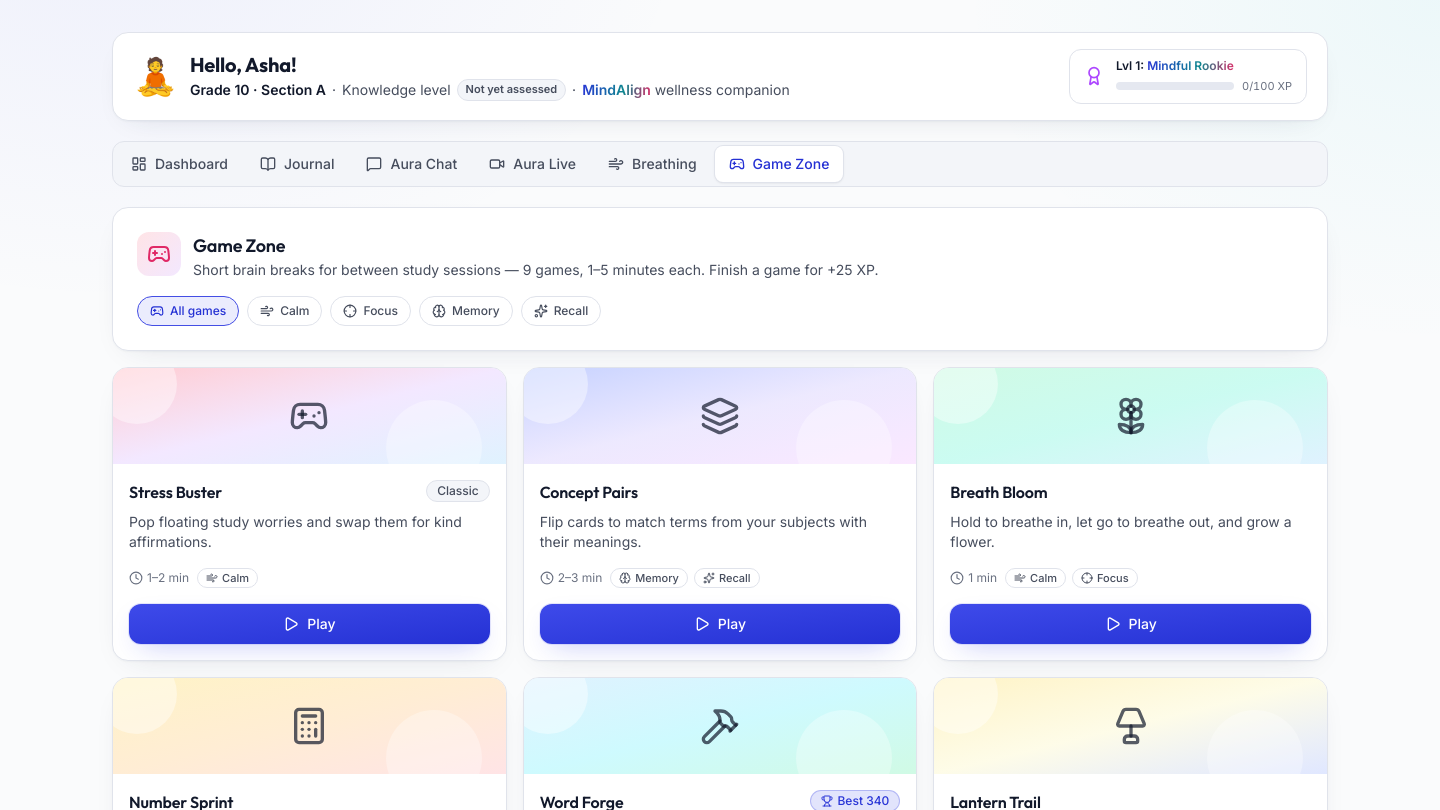
Wellness ▸ Game Zone › shows a picker card for every game under the Game Zone tab
This screenshot has width=1440, height=810.
Expected: the heading "Game Zone" is shown, x1=193 y1=234 x2=285 y2=256
Expected: the heading "Stress Buster" is shown, x1=129 y1=480 x2=222 y2=504
# Filter by what a game trains (labelled chips, not colour)
Click the button "Calm": point(285, 310) x1=247 y1=296 x2=322 y2=326
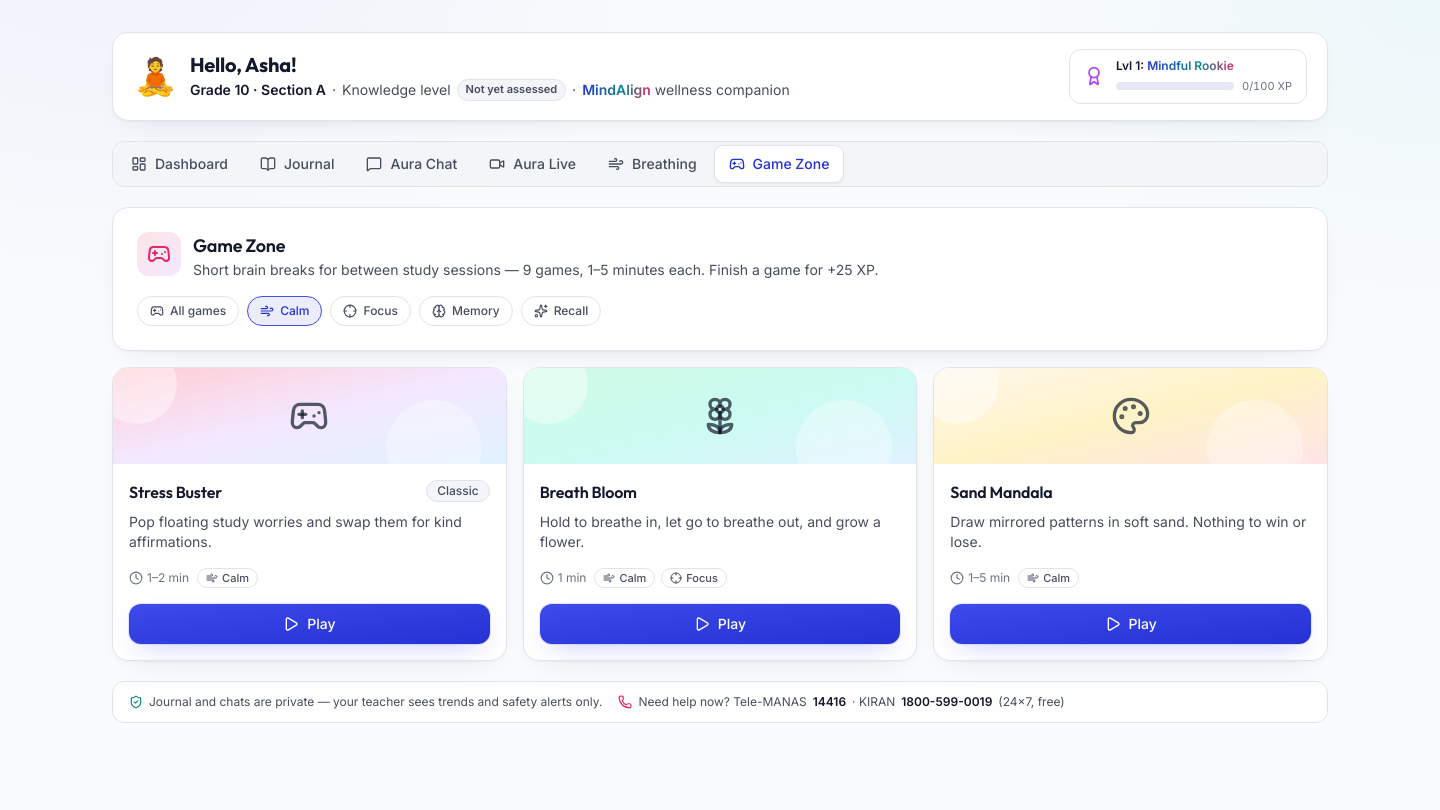
Expected: the number of list items is 3, x1=112 y1=366 x2=507 y2=661; x1=523 y1=366 x2=917 y2=661; x1=933 y1=366 x2=1328 y2=661
